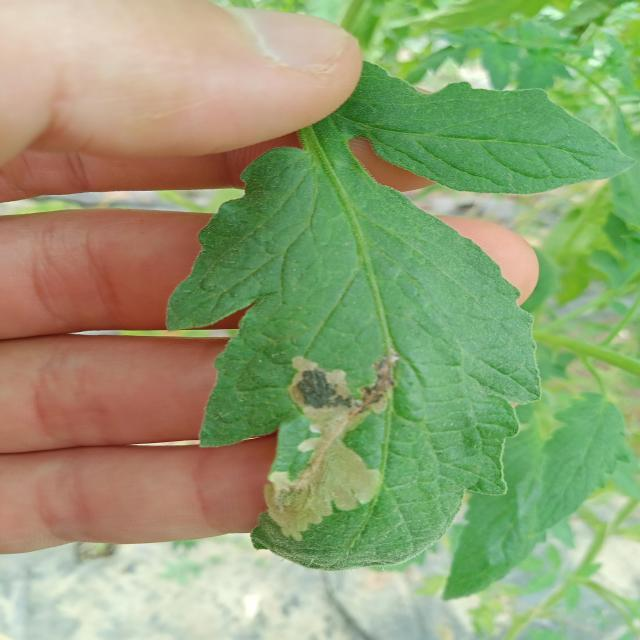Tuta absoluta: (255, 339, 405, 555)
